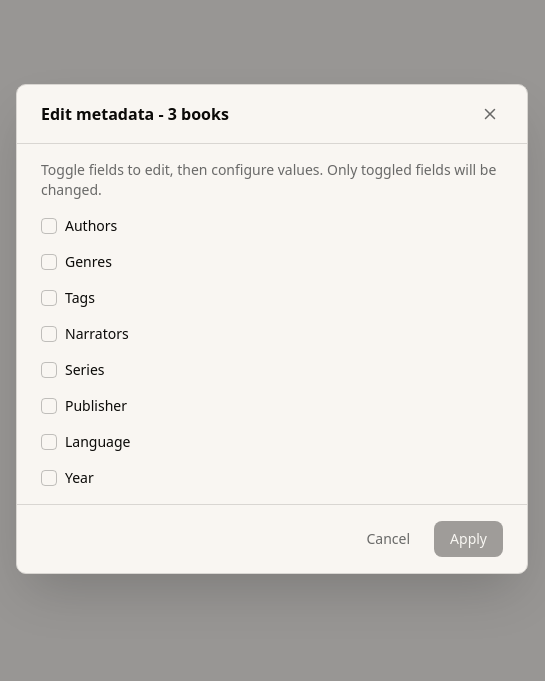
Test case: BulkEditMetadataDialog › canConfirm logic › disables Apply when one field is Clear (valid) and another is Add with no values
Click the button "Authors": (91, 226) [41,216,503,236]
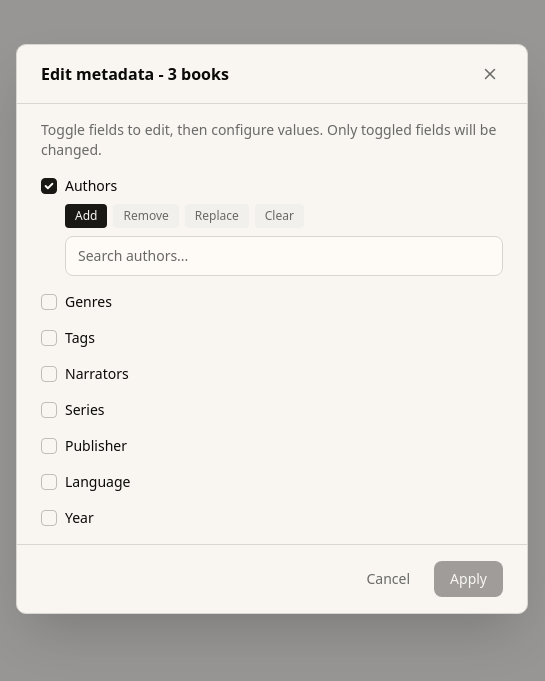
Click the button "Clear": (279, 216) [255,204,304,228]
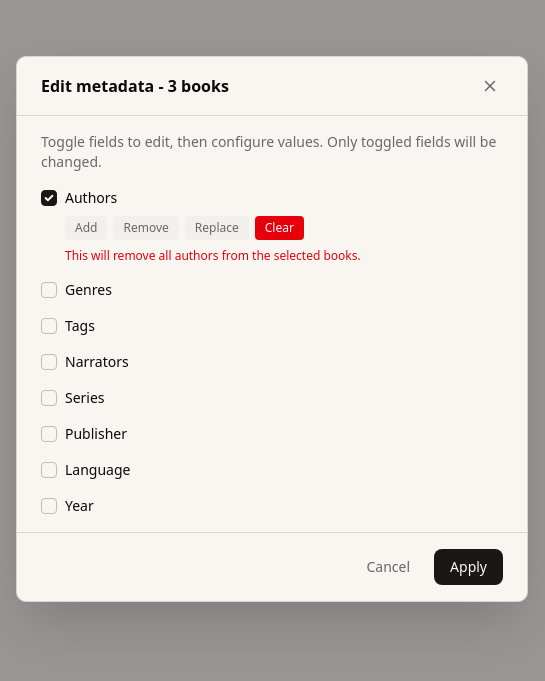
Click the button "Tags": (49, 326) [41,316,503,336]
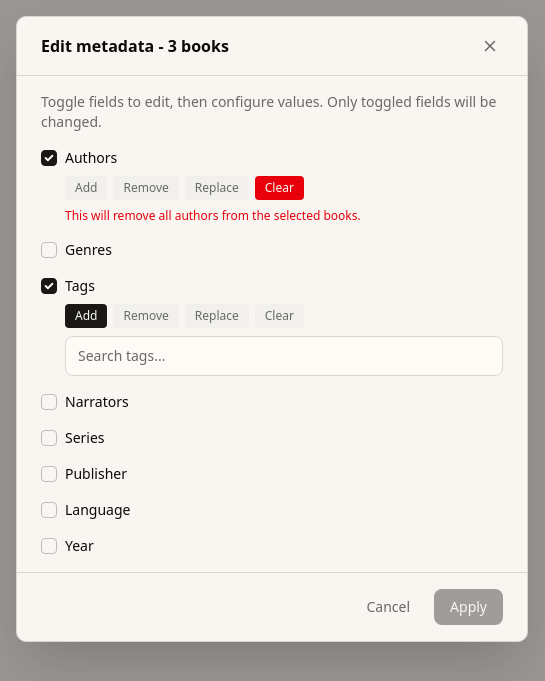
Check: the button "Apply" is disabled, box [434,589,503,625]
